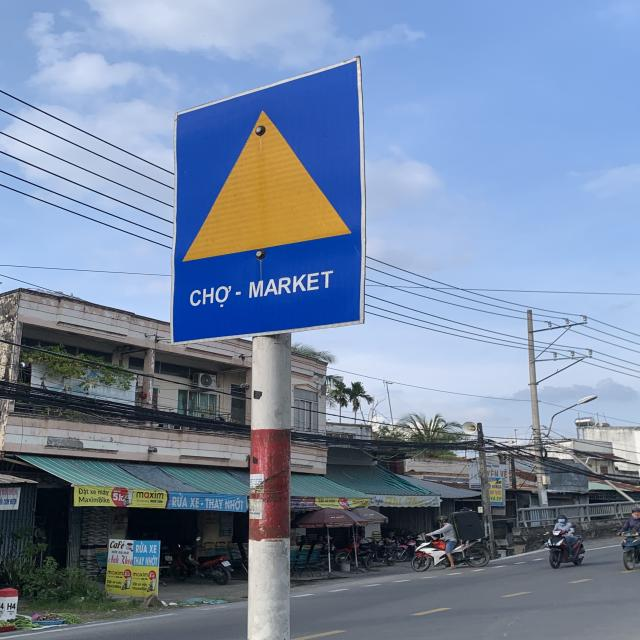Cho_Quay_Xe: (174, 52, 363, 349)
